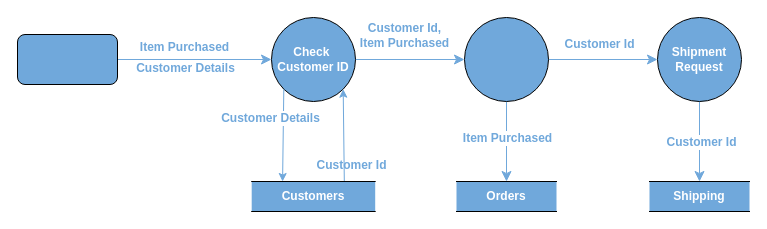
This 767x229 diagram has some shape labels left out. The centre of each missing label's shape, as x and y in pixels:
"Customer" belongs at (x=67, y=59).
"Place Order" belongs at (x=506, y=59).
